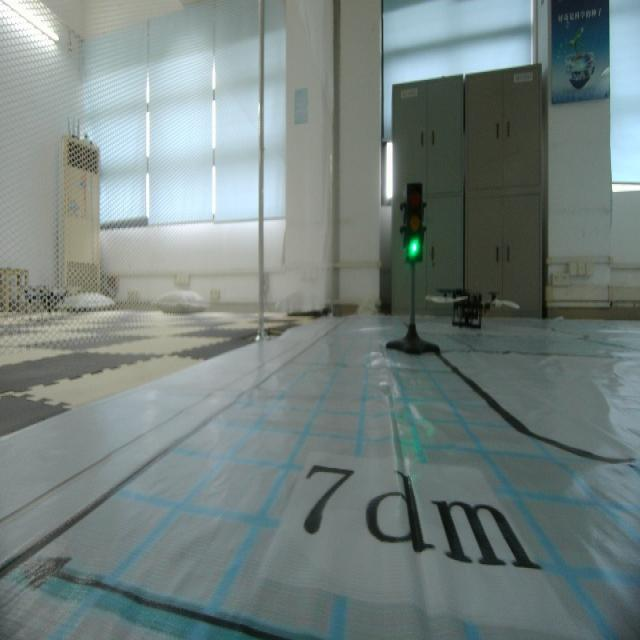green: (403, 180, 425, 263)
